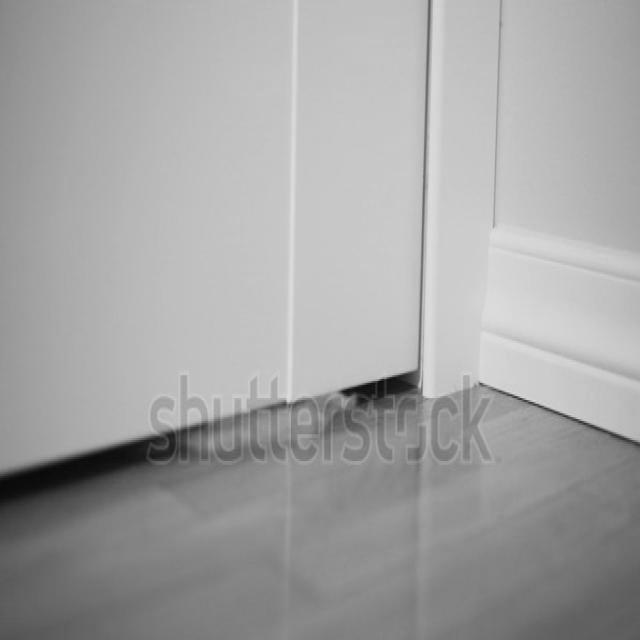fire: (158, 380, 359, 470)
